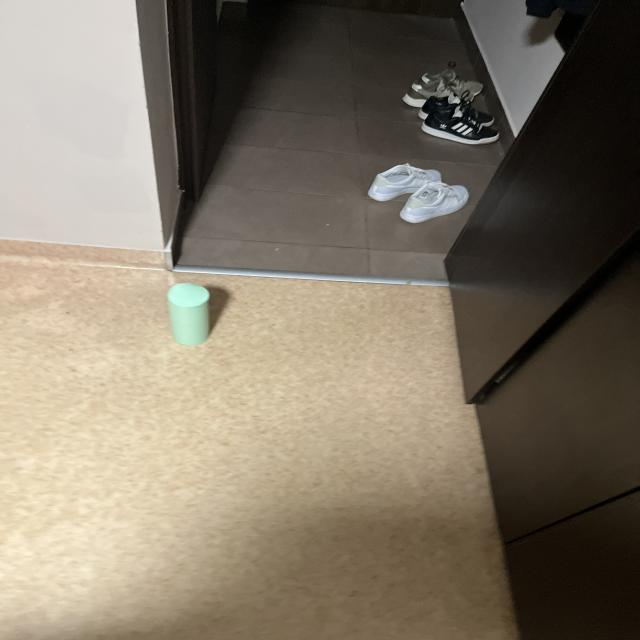meta: (167, 283, 210, 345)
